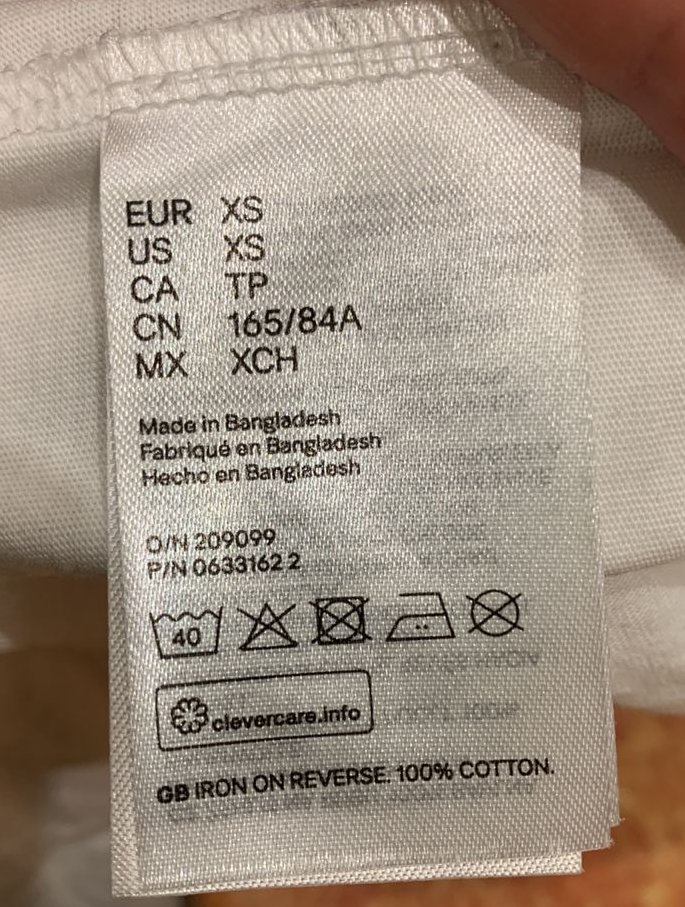do_not_bleach: (235, 597, 301, 657)
do_not_dry_clean: (459, 583, 529, 639)
do_not_tumble_drying: (307, 587, 376, 648)
ironing_at_med_temp: (384, 586, 457, 647)
wash_at_or_below_40: (148, 602, 226, 661)
